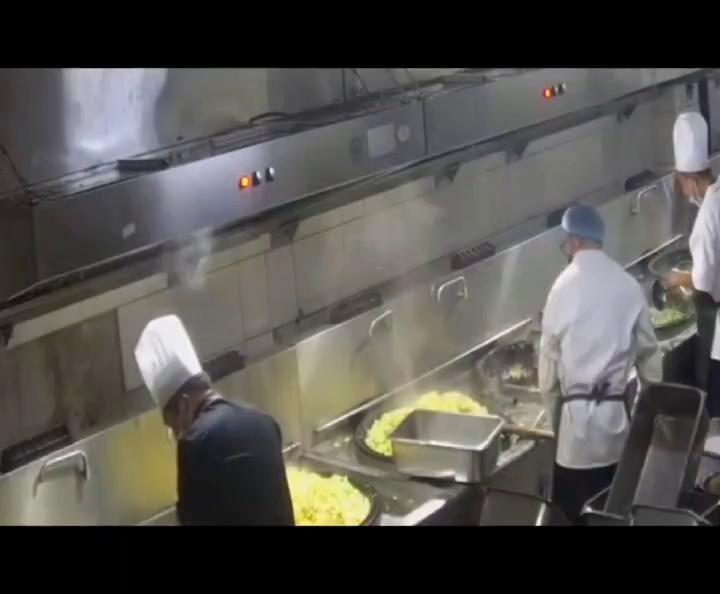mask: (678, 172, 705, 206)
